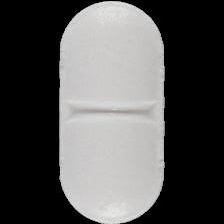23155-056: (0, 0, 224, 224)
